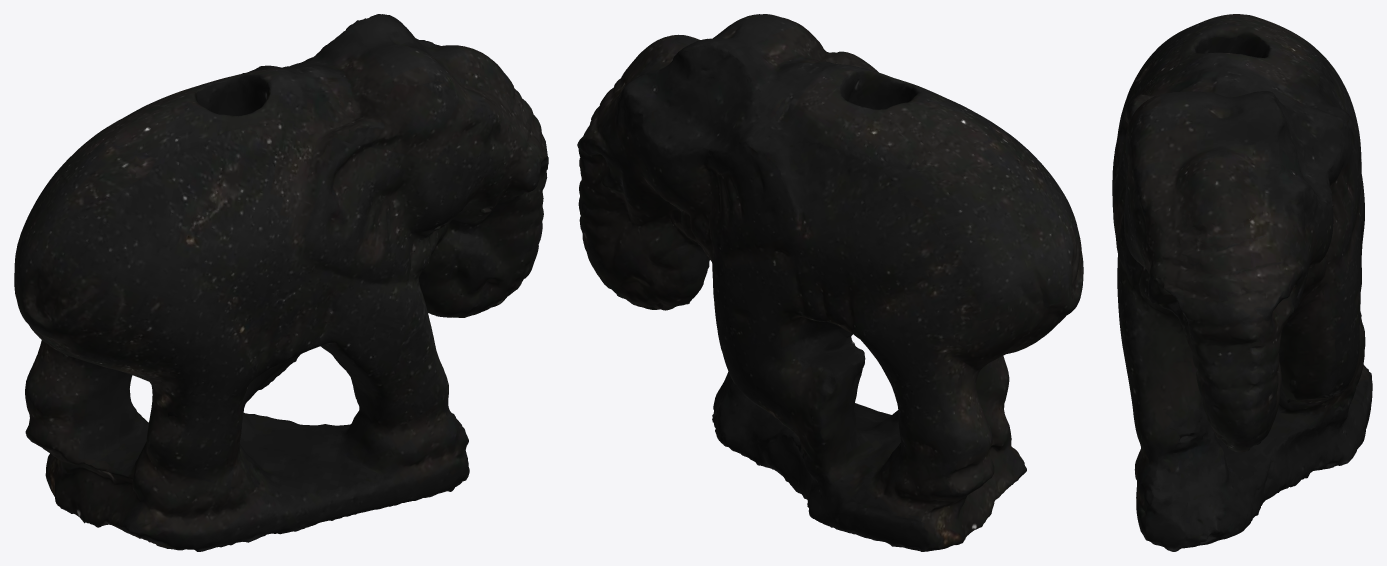
Rendered from preview.glb.
3 renders of one model, left to right at view 1: azimuth 30°, elevation 25°; view 2: azimuth 150°, elevation 25°; view 3: azimuth 270°, elevation 25°, orthographic. The views are drawn at different scales.
Visible parts, largest first — view 1: ADVIMG_PHOTS_42031_Elephant_FixedEditTextured_ADVIMG_PHOTS_4; view 2: ADVIMG_PHOTS_42031_Elephant_FixedEditTextured_ADVIMG_PHOTS_4; view 3: ADVIMG_PHOTS_42031_Elephant_FixedEditTextured_ADVIMG_PHOTS_4.
Part boxes in pixels (x1,y1,x2,y2): ADVIMG_PHOTS_42031_Elephant_FixedEditTextured_ADVIMG_PHOTS_4: (14, 14, 548, 551); ADVIMG_PHOTS_42031_Elephant_FixedEditTextured_ADVIMG_PHOTS_4: (577, 14, 1083, 551); ADVIMG_PHOTS_42031_Elephant_FixedEditTextured_ADVIMG_PHOTS_4: (1112, 14, 1372, 551).
Bounding box in the file's own units: 0.1139 × 0.0934 × 0.05.
1 material, 1 textured.
